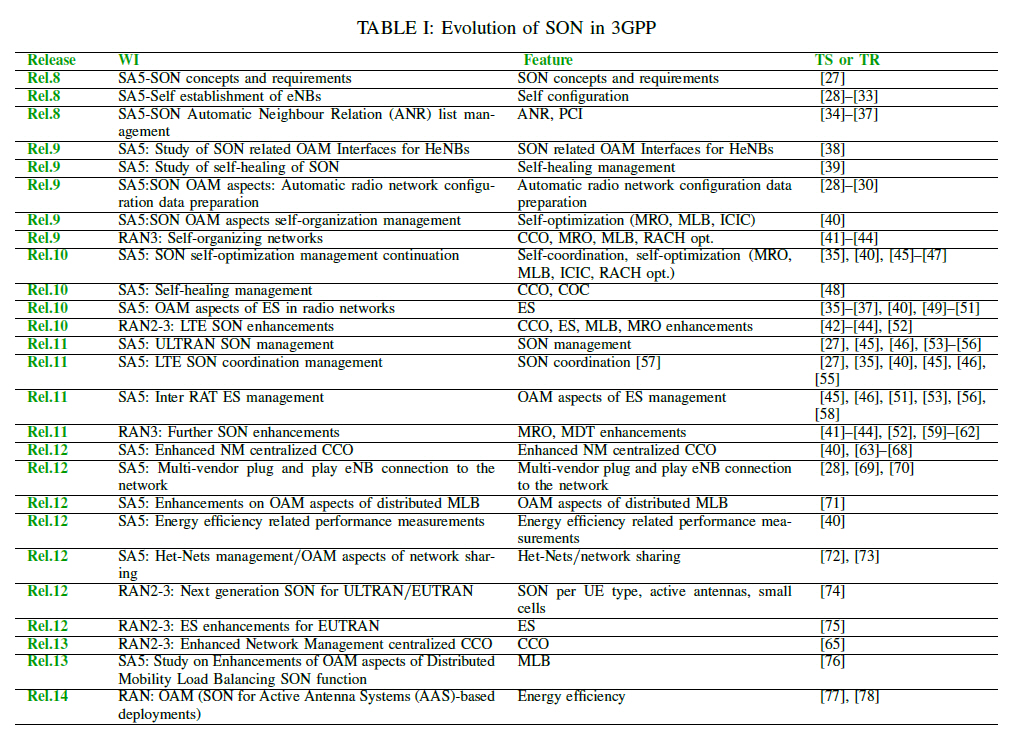table: (14, 45, 1005, 732)
